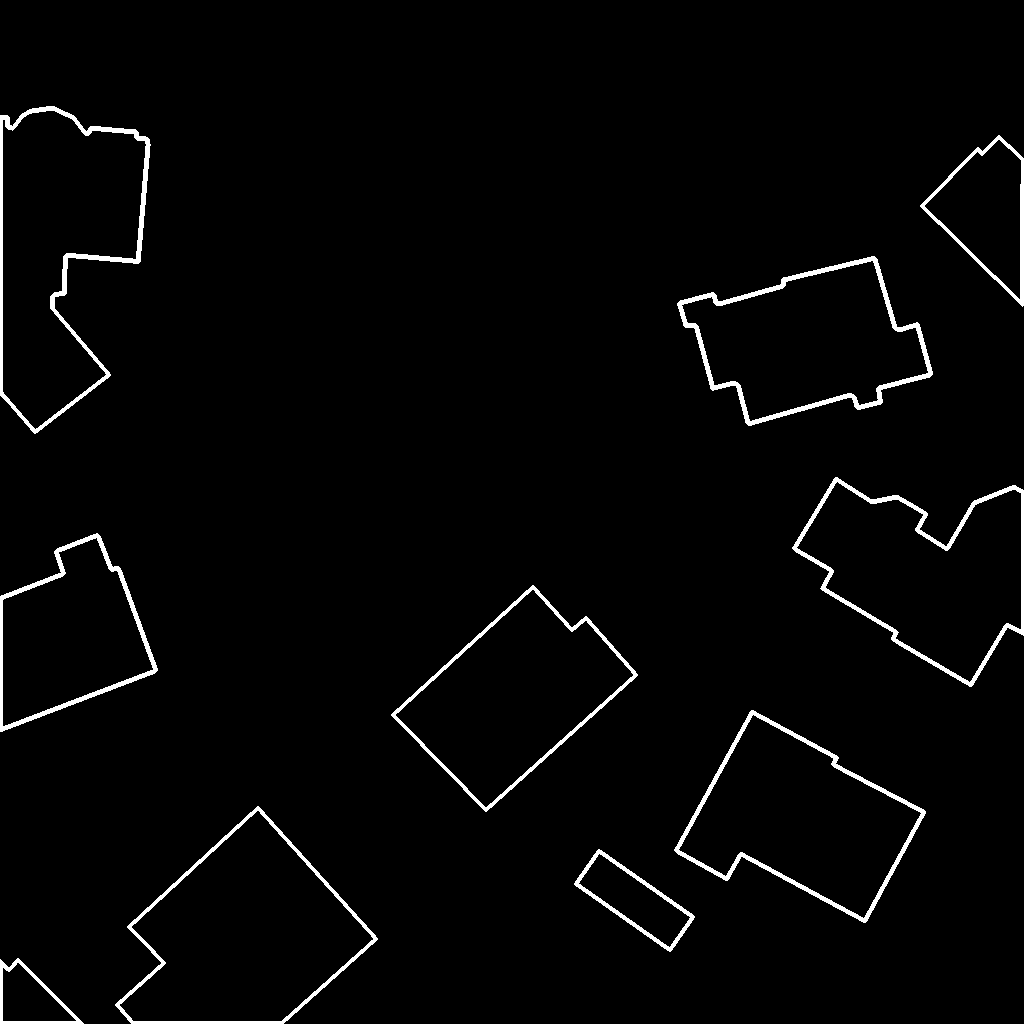building: (117, 808, 377, 1024), (393, 587, 637, 811), (676, 712, 925, 922), (0, 108, 149, 433), (794, 479, 1024, 686), (679, 258, 932, 425), (0, 535, 157, 731), (922, 137, 1024, 306), (576, 851, 694, 951), (0, 960, 83, 1024)
